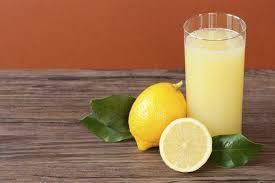lemon: (128, 81, 186, 150), (159, 117, 212, 172)
